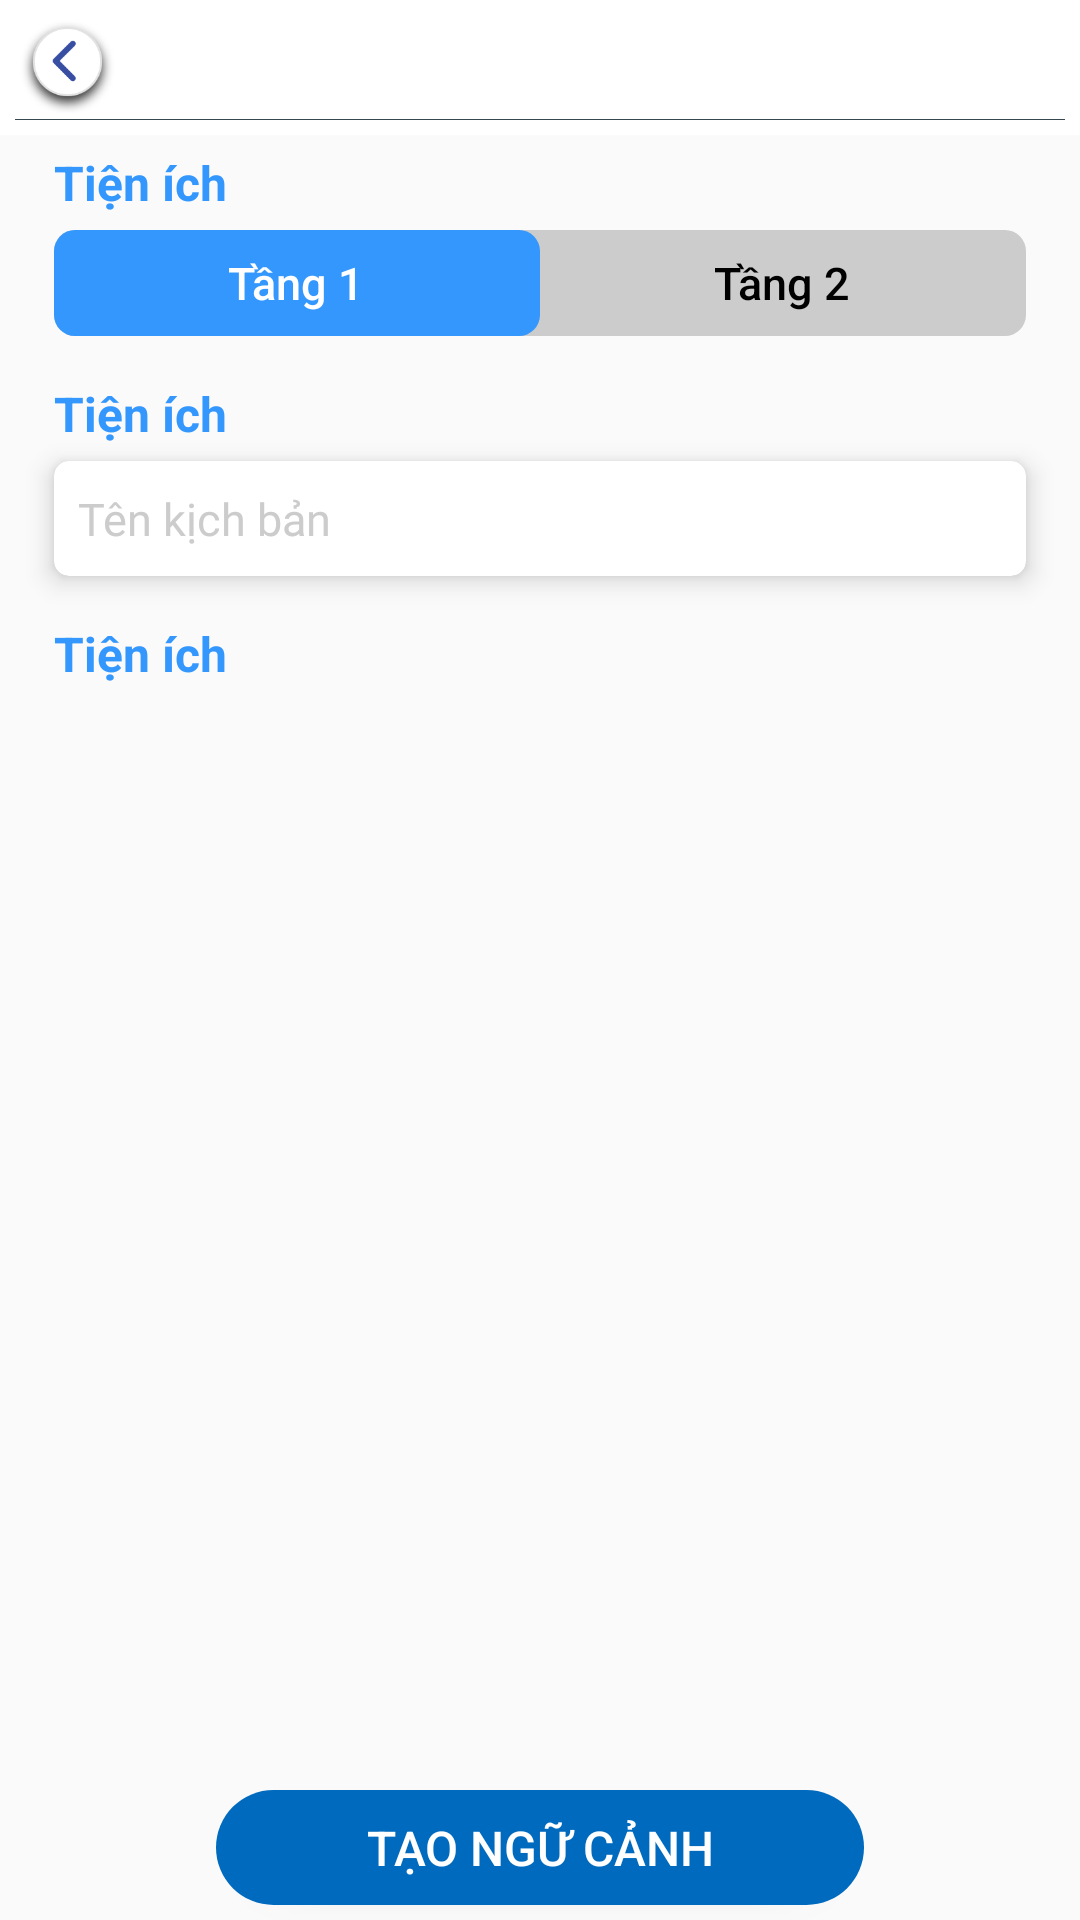

Icons on this 1080×1920 Android screen, each with its box as [x1,y1,x2,y2]:
back circle: [27,27,108,108]
